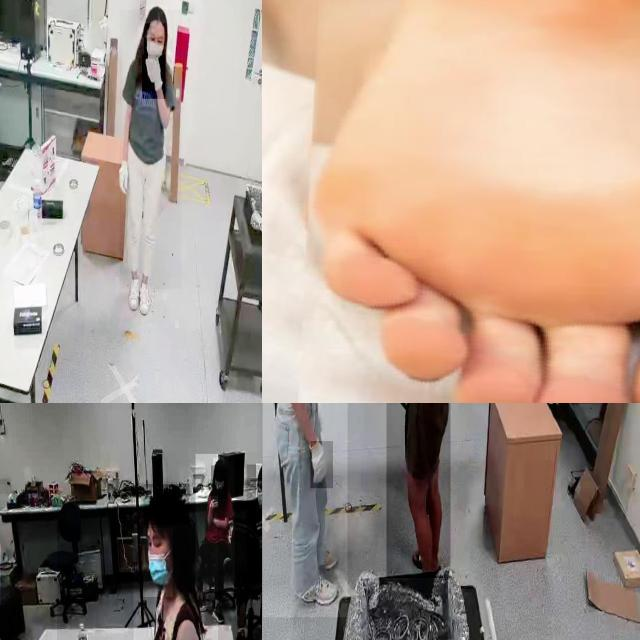Barefoots: (262, 0, 640, 403)
face_mask: (143, 528, 173, 597), (211, 466, 227, 500), (144, 37, 164, 59), (256, 480, 262, 517)
hand_glove: (311, 441, 334, 489), (142, 54, 166, 99), (117, 155, 131, 199)
hand_noglove: (208, 496, 218, 508)
head_nohelmet: (144, 484, 190, 526), (146, 6, 168, 24), (213, 457, 229, 470), (256, 463, 262, 478)
person: (263, 403, 348, 618), (120, 10, 182, 290), (133, 487, 218, 640), (386, 403, 451, 579), (195, 454, 235, 592), (246, 464, 262, 584)
shoes: (296, 572, 338, 610), (138, 276, 154, 319), (124, 273, 140, 312)
